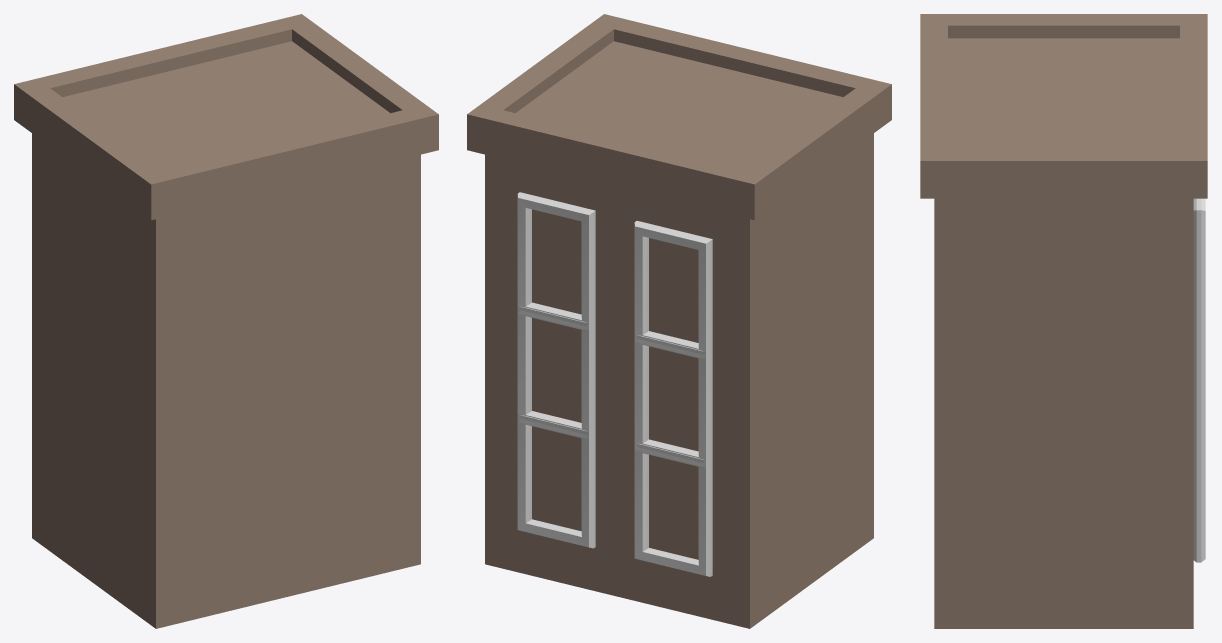
The model's file is apt1.FBX.
3 renders of one model, left to right at view 1: azimuth 30°, elevation 25°; view 2: azimuth 150°, elevation 25°; view 3: azimuth 270°, elevation 25°, orthographic. The views are drawn at different scales.
Visible parts, largest first — view 1: Box027; view 2: Box027, Rectangle033, Rectangle030, Rectangle032, Rectangle035, Rectangle034, Rectangle031; view 3: Box027, Rectangle030, Rectangle032, Rectangle031.
Part boxes in pixels (bbox=[...]): Box027: bbox=[14, 14, 438, 628]; Box027: bbox=[467, 14, 891, 628]; Rectangle033: bbox=[634, 221, 712, 360]; Rectangle030: bbox=[517, 192, 595, 331]; Rectangle032: bbox=[517, 414, 595, 548]; Rectangle035: bbox=[634, 443, 712, 576]; Rectangle034: bbox=[634, 335, 712, 468]; Rectangle031: bbox=[517, 306, 595, 438]; Box027: bbox=[920, 14, 1207, 628]; Rectangle030: bbox=[1193, 198, 1205, 335]; Rectangle032: bbox=[1193, 437, 1205, 562]; Rectangle031: bbox=[1193, 325, 1205, 448].
Size of the model in its own units: 99.03 by 149 by 81.72.
